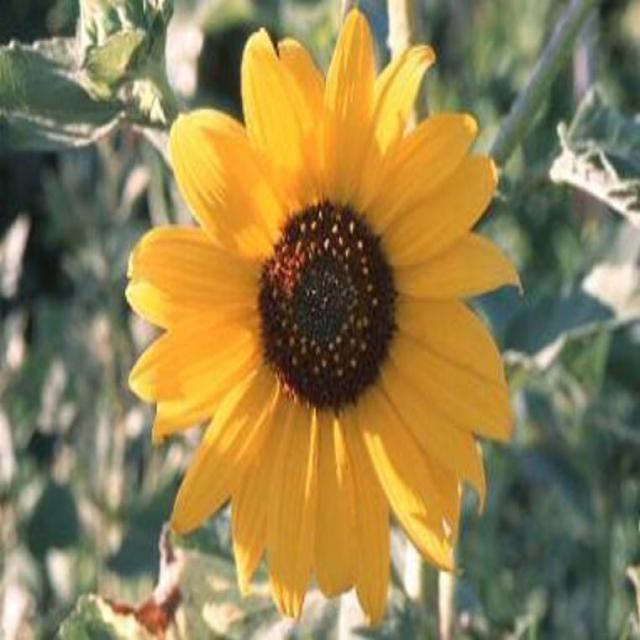sunflower: (124, 4, 528, 630)
